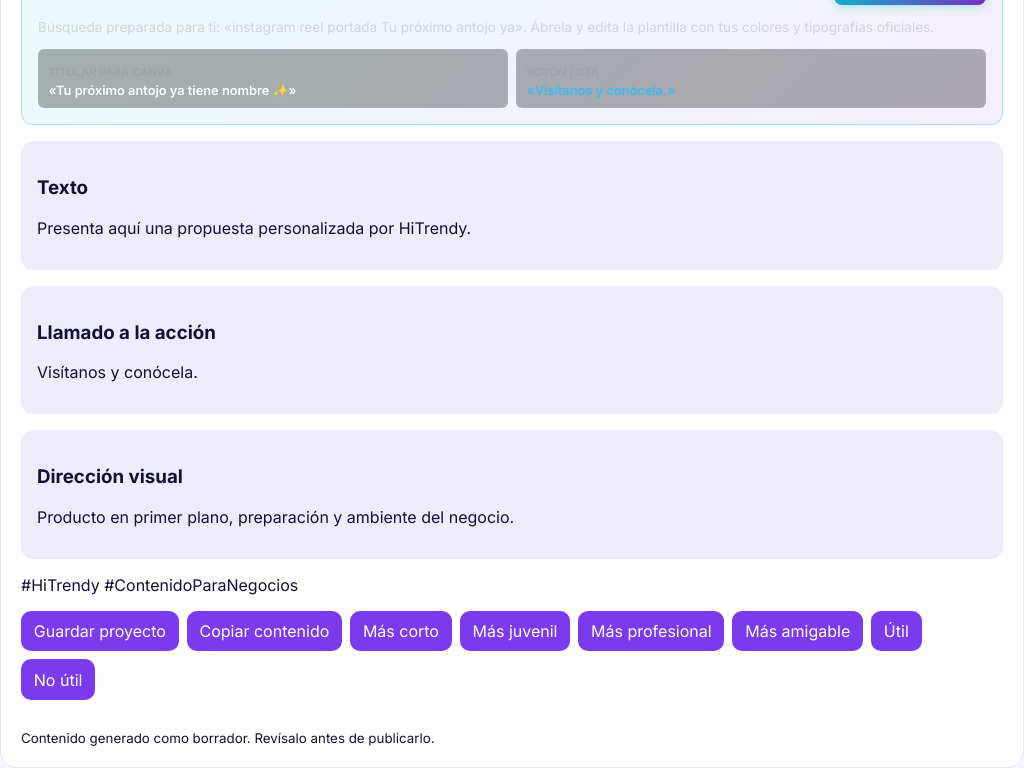
Test: GeneratedArtifactCard › copies the structured post and reports success
(page scrolled)
Click the button "Copiar contenido" at (264, 631), box [187,611,342,652]
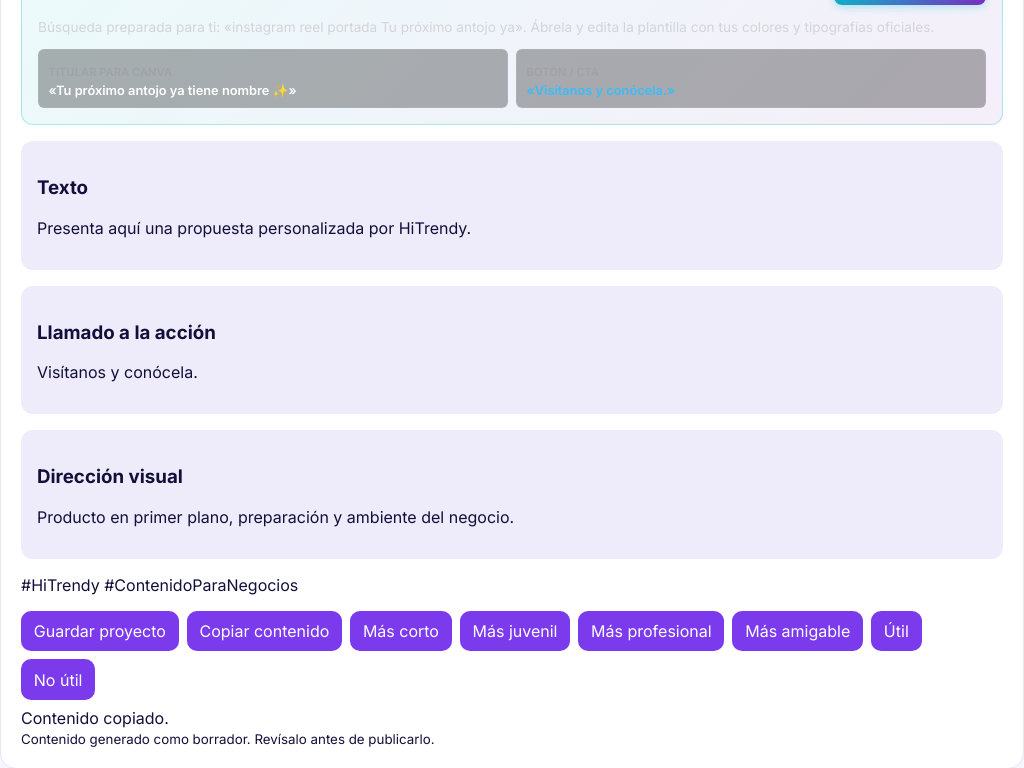
Check: the message reads "Contenido copiado.", box [21,708,169,728]
